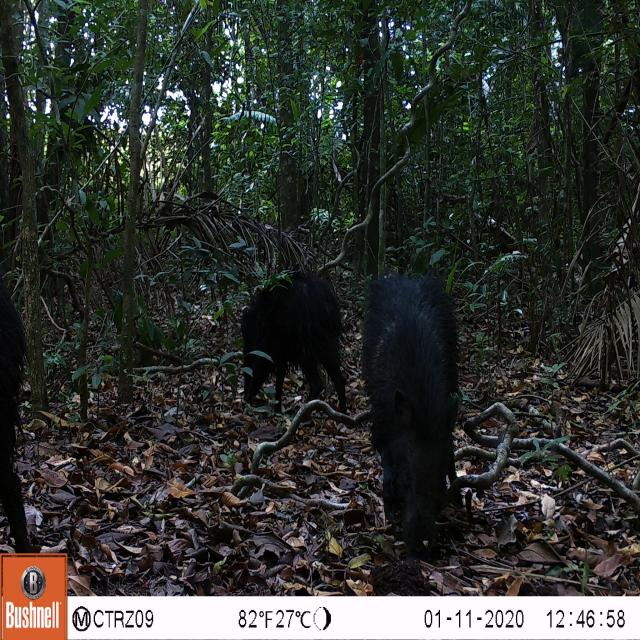Collared Peccary: (357, 266, 471, 560), (233, 261, 351, 434), (0, 280, 48, 550)
